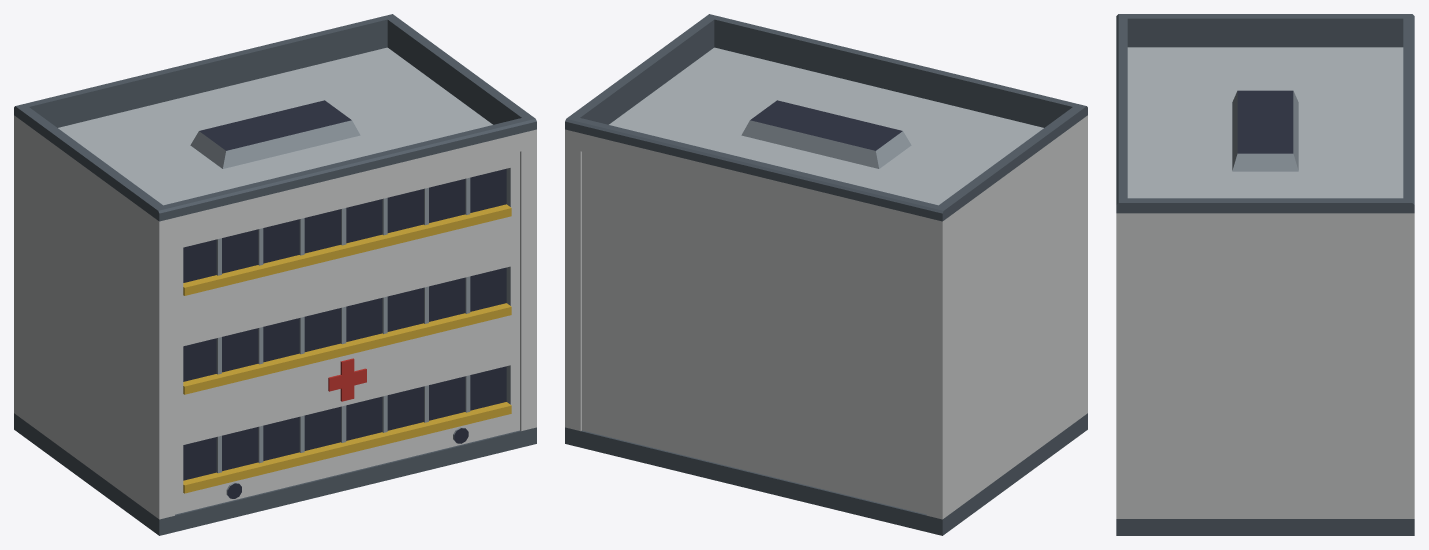
File: ward-block.glb
3 views of the same model, side by side, from view 1: azimuth 30°, elevation 25°; view 2: azimuth 150°, elevation 25°; view 3: azimuth 270°, elevation 25° (orthographic). The views are drawn at different scales.
Visible parts, largest first — view 1: ward-block; view 2: ward-block; view 3: ward-block.
Boxes of the visible parts, bbox=[...] form: ward-block: bbox=[14, 14, 536, 535]; ward-block: bbox=[565, 14, 1087, 535]; ward-block: bbox=[1116, 14, 1414, 535].
Bounding box in the file's own units: 12 × 9.85 × 8.
